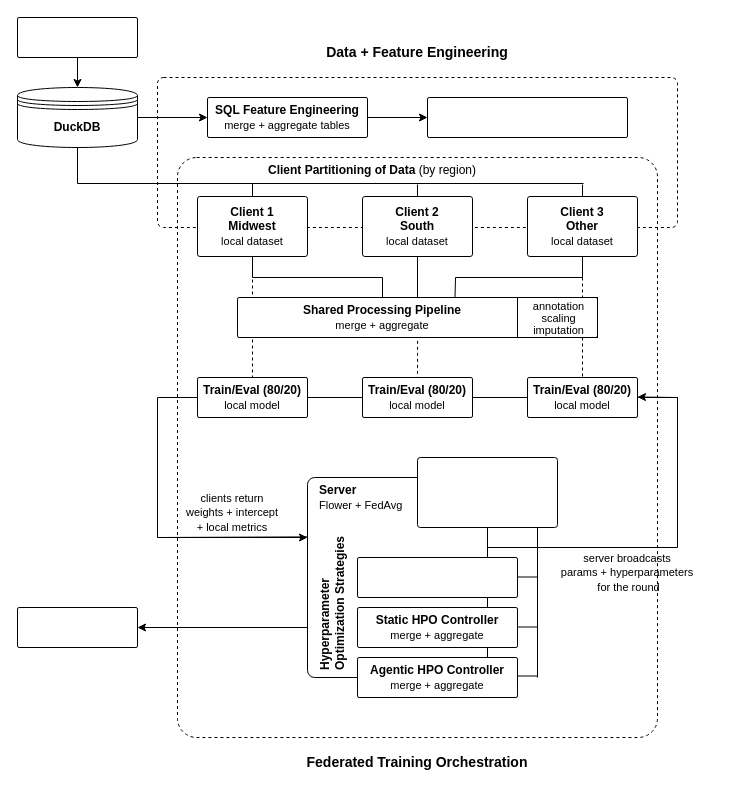
Some shapes in this 735 by 805 pixel diagram are drawn without their labels. The centre of each missing label's shape, as x and y in pixels:
"Baseline HPO Controller merge + aggregate" goes at (x=437, y=577).
"Consolidated Modeling View 199,646 ICU stays" goes at (x=527, y=117).
"eICU-CRD (raw ICU data)" goes at (x=77, y=37).
"Evaluation & Logging" goes at (x=77, y=627).
"Model Aggregator sample-size weighting" goes at (x=487, y=492).
